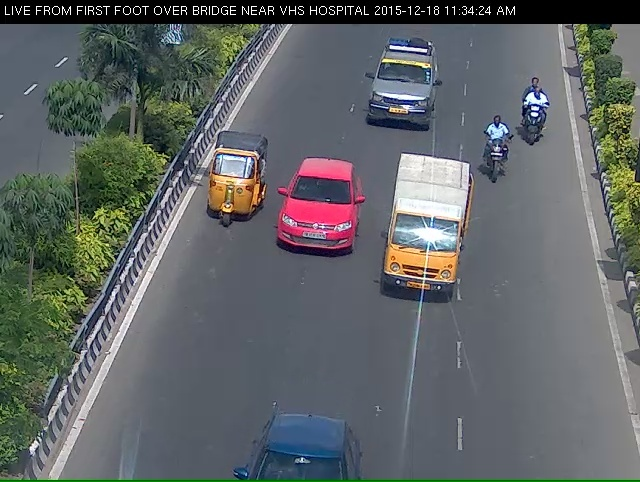Auto: (191, 137, 259, 237)
Bus: (367, 161, 477, 332)
Car: (265, 165, 357, 287), (357, 39, 452, 149)
Person: (516, 83, 556, 160), (476, 131, 509, 199)
